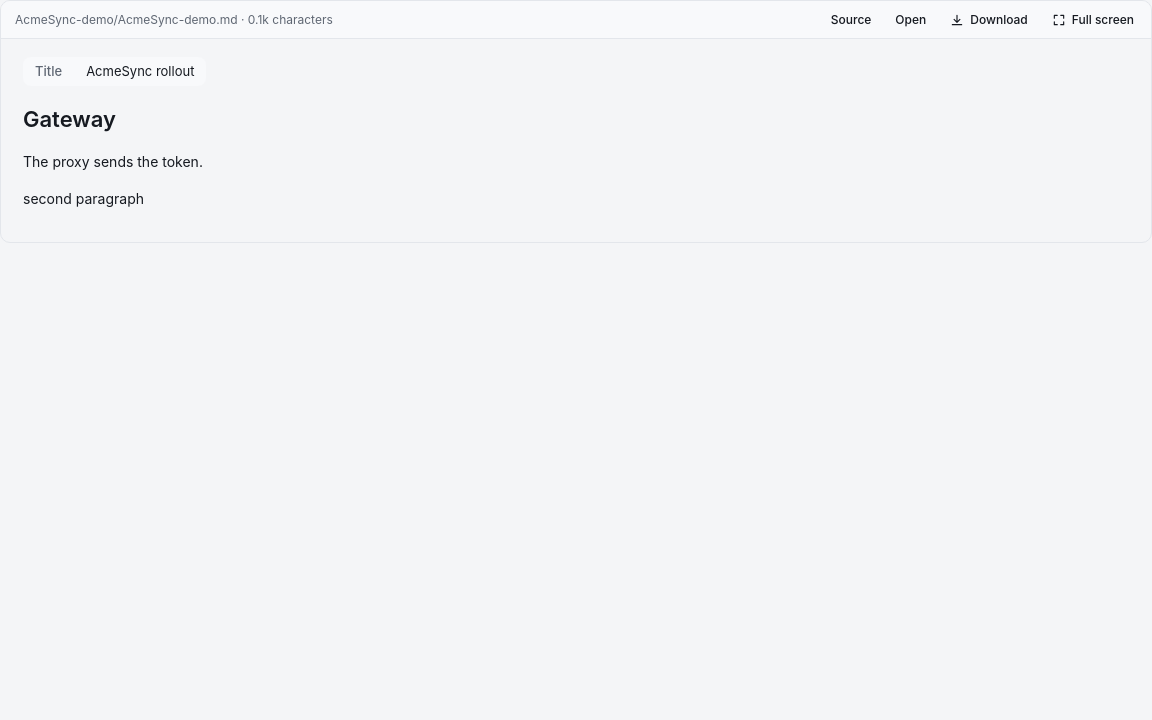
Test case: MarkdownView editing › offers the lock only in reading mode
This screenshot has width=1152, height=720.
Expected: the heading "Gateway" is shown, [23, 106, 116, 132]
Expected: the button "Edit" is not shown
Click the button "Full screen" at point(1093, 20), box [1043, 7, 1143, 32]
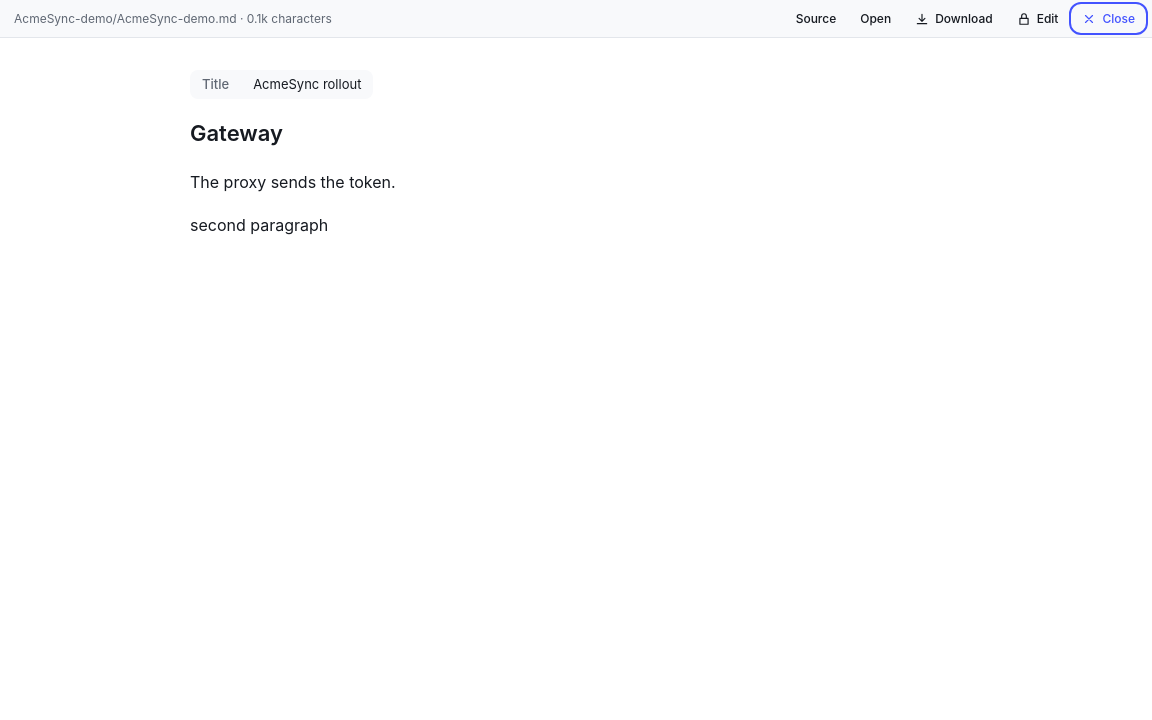
Expected: the button "Edit" is shown, [1008, 6, 1067, 31]
